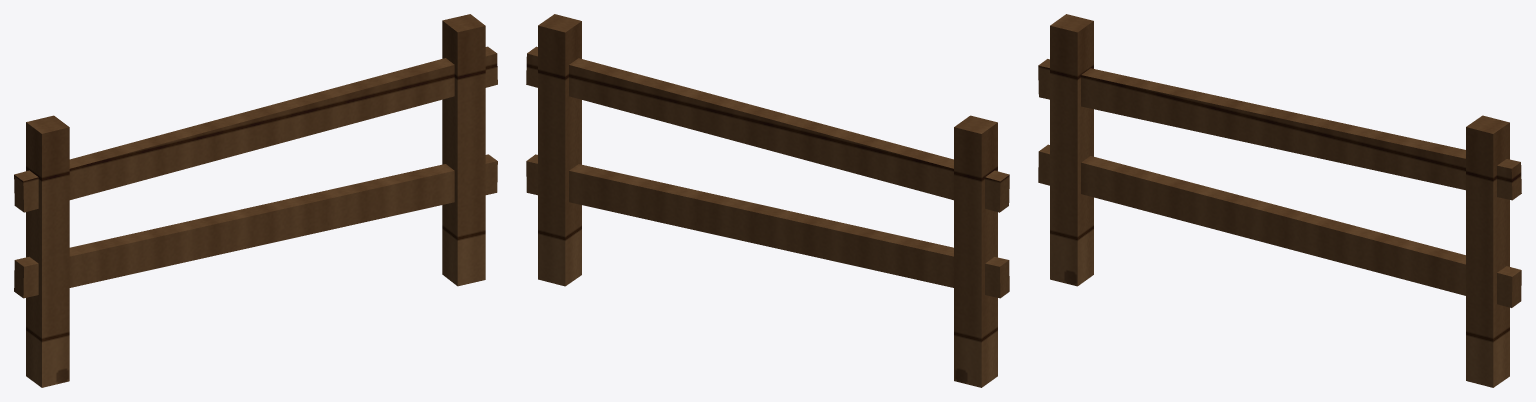
Rendered from fence.glb.
The picture shows the model from 3 angles, left to right: view 1: azimuth 30°, elevation 25°; view 2: azimuth 150°, elevation 25°; view 3: azimuth 330°, elevation 25°; orthographic projection.
Parts seen in each view (by area): view 1: fence; view 2: fence; view 3: fence.
Boxes of the visible parts, x1,y1,x2,y2 form: fence: (14, 14, 497, 387); fence: (526, 14, 1009, 387); fence: (1038, 14, 1521, 387).
Bounding box in the file's own units: 2.05 × 1.05 × 0.1229.
Materials: 1 (1 with a texture image).
